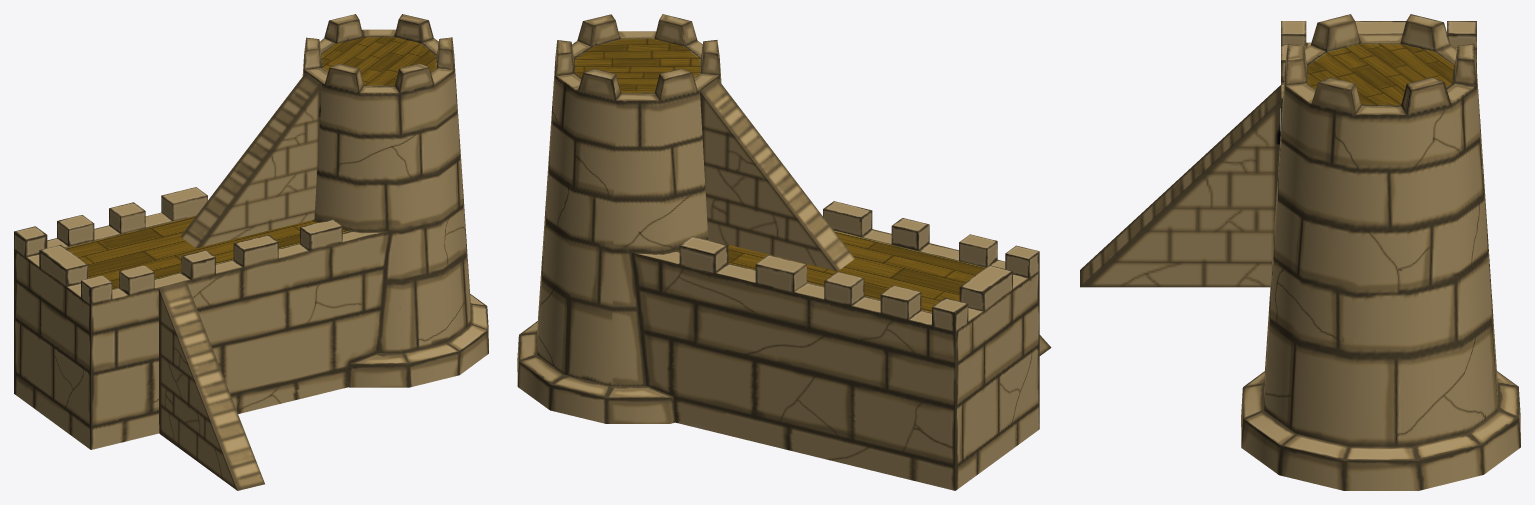
The model's file is Tower2.fbx.
3 renders of one model, left to right at view 1: azimuth 30°, elevation 25°; view 2: azimuth 150°, elevation 25°; view 3: azimuth 270°, elevation 25°, orthographic. The views are drawn at different scales.
Visible parts, largest first — view 1: pCube27, pCylinder14, pCube32, pCube33; view 2: pCube27, pCylinder14, pCube32; view 3: pCylinder14, pCube33, pCube27.
Part boxes in pixels (x1=…): pCube27: x1=14, y1=187, x2=390, y2=449; pCylinder14: x1=302, y1=14, x2=488, y2=387; pCube32: x1=180, y1=72, x2=321, y2=248; pCube33: x1=159, y1=281, x2=264, y2=490; pCube27: x1=632, y1=201, x2=1039, y2=490; pCylinder14: x1=517, y1=14, x2=721, y2=423; pCube32: x1=700, y1=78, x2=854, y2=271; pCylinder14: x1=1241, y1=14, x2=1520, y2=490; pCube33: x1=1080, y1=85, x2=1280, y2=287; pCube27: x1=1281, y1=21, x2=1476, y2=126.
Size of the model in its own units: 9.86 by 6.63 by 6.99.
